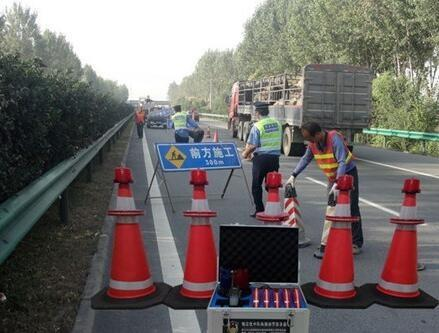cone_barrel: (100, 179, 157, 303), (175, 179, 221, 305), (309, 188, 359, 303), (373, 188, 423, 301), (283, 184, 309, 246)
